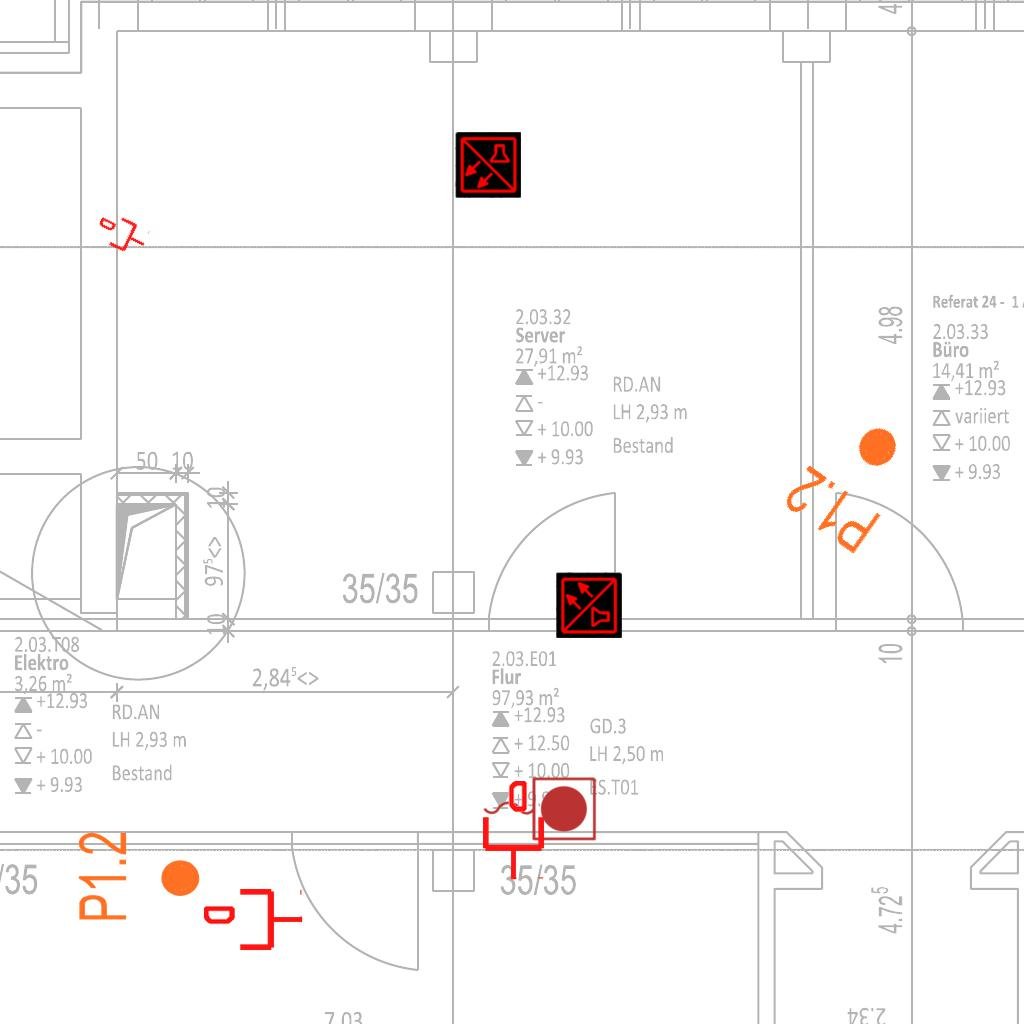Datenanschluss_einfach: (204, 885, 304, 954), (479, 781, 548, 881), (92, 207, 152, 261)
Downlight_LED_Einbauleuchten_Flur: (777, 400, 928, 560), (75, 830, 203, 923)
OKW_Multisensormelder_(Kombination_optischer_Rauch-Kahlenmonoxid_Waerme-Melder): (455, 132, 521, 198), (556, 572, 622, 638)
Zugtaster: (478, 772, 600, 844)
